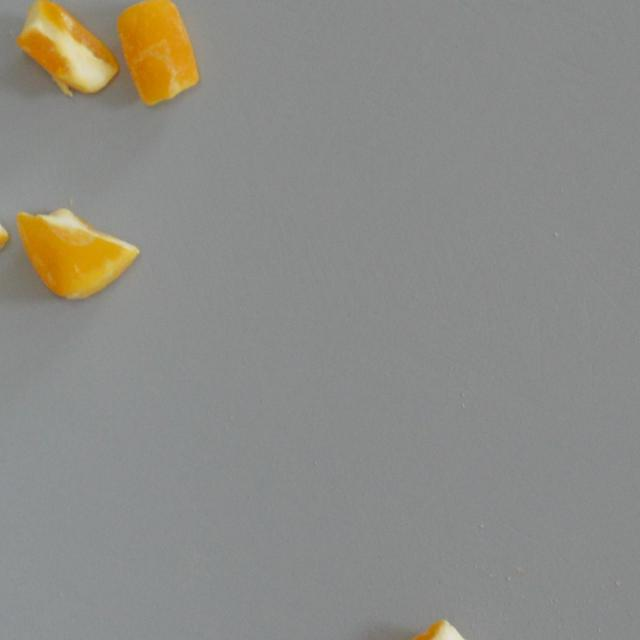pelicula: (11, 198, 144, 307), (11, 0, 122, 96), (108, 0, 206, 107), (360, 616, 474, 640)
